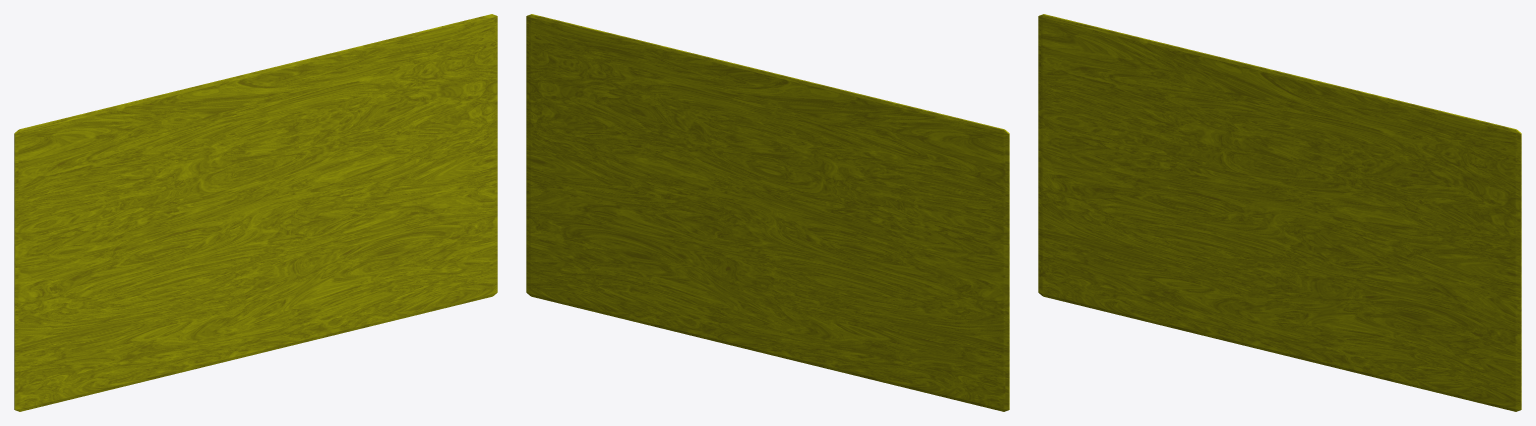
The model's file is zed drevo zlt2.fbx.
The picture shows the model from 3 angles, left to right: view 1: azimuth 30°, elevation 25°; view 2: azimuth 150°, elevation 25°; view 3: azimuth 330°, elevation 25°; orthographic projection.
Visible parts, largest first — view 1: Plane.011; view 2: Plane.011; view 3: Plane.011.
Boxes of the visible parts, left/top/right/bottom form: Plane.011: left=14, top=14, right=497, bottom=411; Plane.011: left=526, top=14, right=1009, bottom=411; Plane.011: left=1038, top=14, right=1521, bottom=411.
Bounding box in the file's own units: 1082 × 604 × 5.65.
1 material, 1 textured.
